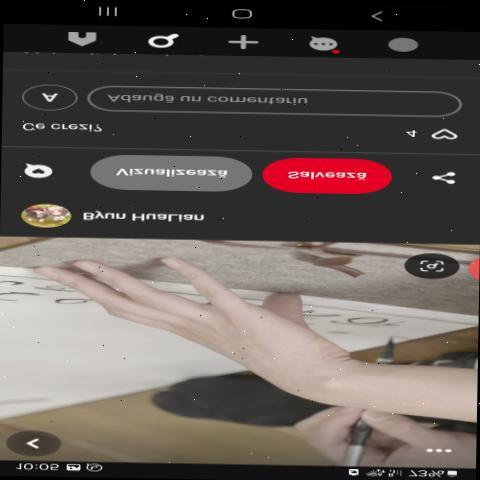Hands: (19, 243, 406, 427)
